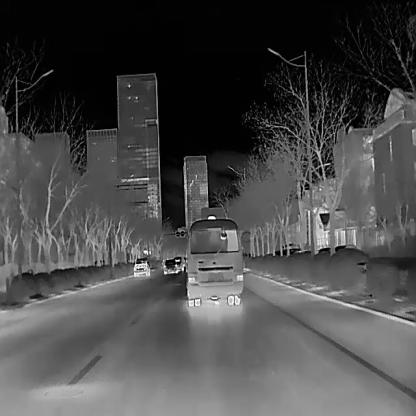bus: (184, 212, 244, 306)
car: (132, 256, 148, 275), (162, 257, 177, 274), (174, 256, 184, 271)
